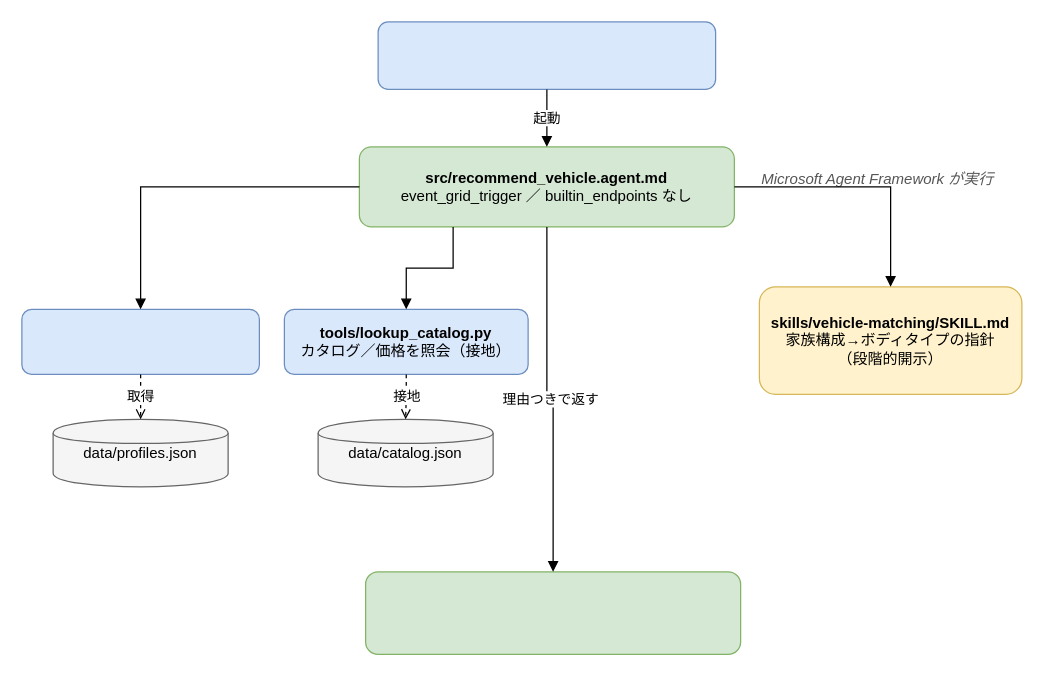
Image size: 1044x676. Some labels were removed from this diagram. The shapes that lost their labels are listed below. From the top down, each one's box as (x1, y1, x2, y2) in pixels, then its label:
(377, 21, 716, 89): プロフィール更新イベント（Event Grid）
(21, 308, 259, 374): tools/get_profile.py 保有車・家族構成を取得
(364, 571, 741, 654): 最終応答 ：おすすめ車種（複数・理由つき） 通知・送信なし（副作用なし）
